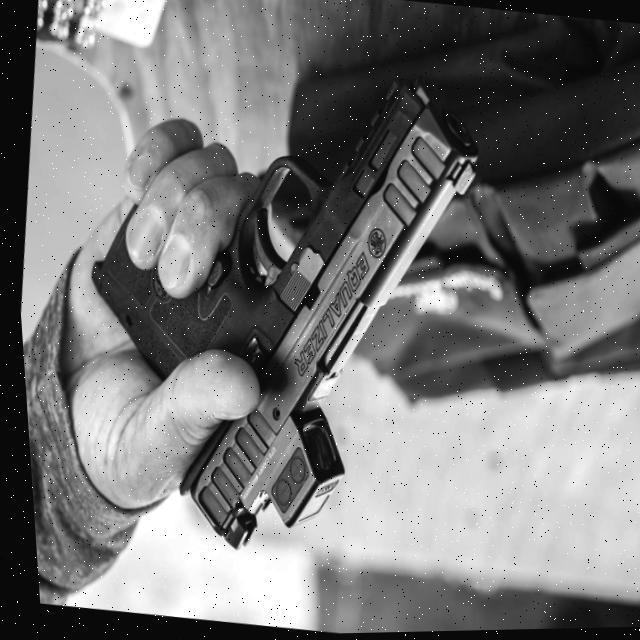pistol: (40, 31, 508, 584)
